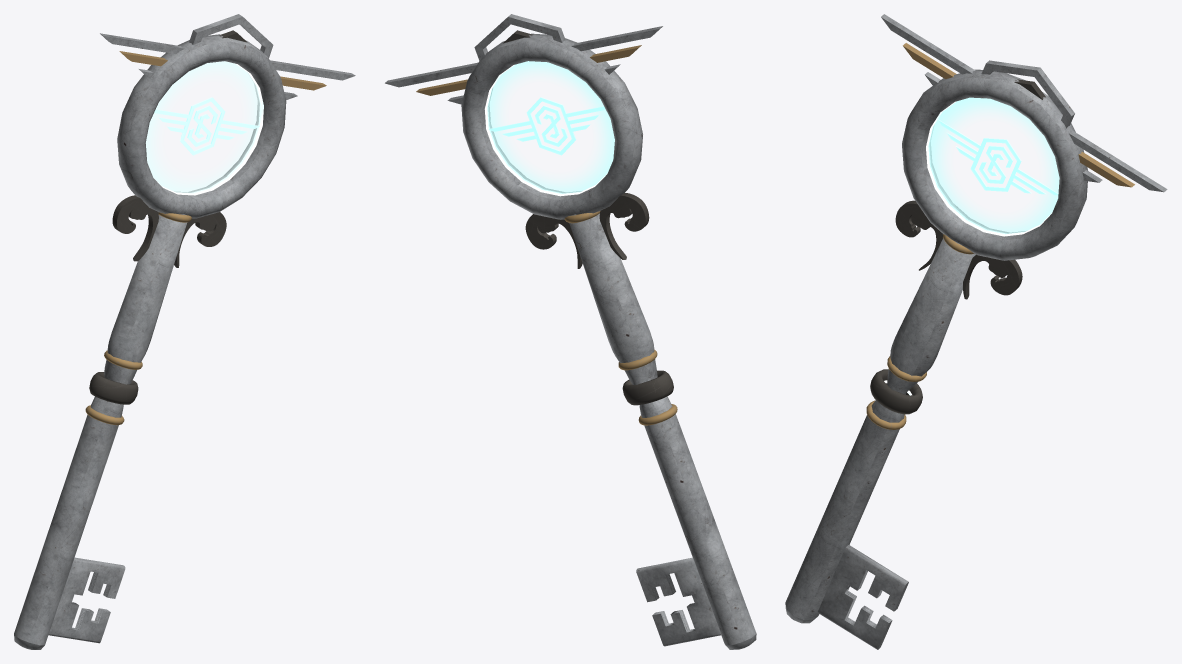
The model's file is space_capital_key.glb.
The picture shows the model from 3 angles, left to right: view 1: azimuth 30°, elevation 25°; view 2: azimuth 150°, elevation 25°; view 3: azimuth 330°, elevation 25°; orthographic projection. The views are drawn at different scales.
Visible parts, largest first — view 1: Cylinder.002, CircleBlendAlpha.001; view 2: Cylinder.002, CircleBlendAlpha.001; view 3: Cylinder.002, CircleBlendAlpha.001.
Part boxes in pixels (x1=…): Cylinder.002: x1=14, y1=14, x2=355, y2=649; CircleBlendAlpha.001: x1=145, y1=61, x2=261, y2=193; Cylinder.002: x1=385, y1=14, x2=756, y2=649; CircleBlendAlpha.001: x1=487, y1=61, x2=614, y2=193; Cylinder.002: x1=785, y1=14, x2=1167, y2=649; CircleBlendAlpha.001: x1=928, y1=97, x2=1059, y2=234.
Bounding box in the file's own units: 0.5283 × 0.8764 × 0.0675.
Materials: 6 (4 with a texture image).
